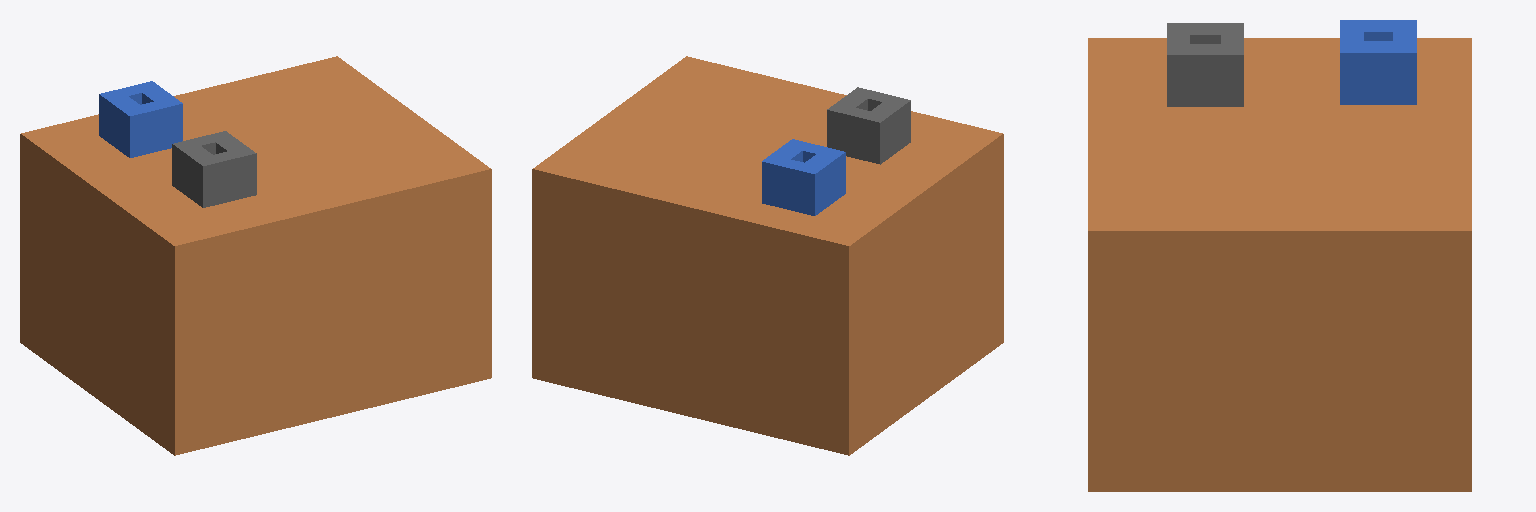
URDF robot description (peg_in_hole_fixtured_scene_0037_peg0001_tol02):
<?xml version="1.0"?>
<robot name="peg_in_hole_fixtured_scene_0037_peg0001_tol02">
  <material name="wood"><color rgba="0.82 0.56 0.35 1.0"/></material>
  <material name="start_fix"><color rgba="0.30 0.50 0.85 1.0"/></material>
  <material name="goal_fix"><color rgba="0.4706 0.4706 0.4706 1.0"/></material>
  <link name="box">
    <visual>
      <origin xyz="0.000000 0.000000 0.000000" rpy="0 0 0"/>
      <geometry><box size="0.475000 0.400000 0.300000"/></geometry>
      <material name="wood"/>
    </visual>
    <collision>
      <origin xyz="0.000000 0.000000 0.000000" rpy="0 0 0"/>
      <geometry><box size="0.475000 0.400000 0.300000"/></geometry>
    </collision>
    <visual>
      <origin xyz="-0.112836 0.102692 0.155000" rpy="0 0 0"/>
      <geometry><box size="0.080000 0.080000 0.010000"/></geometry>
      <material name="start_fix"/>
    </visual>
    <collision>
      <origin xyz="-0.112836 0.102692 0.155000" rpy="0 0 0"/>
      <geometry><box size="0.080000 0.080000 0.010000"/></geometry>
    </collision>
    <visual>
      <origin xyz="-0.087586 0.102692 0.185000" rpy="0 0 0"/>
      <geometry><box size="0.029500 0.080000 0.050000"/></geometry>
      <material name="start_fix"/>
    </visual>
    <collision>
      <origin xyz="-0.087586 0.102692 0.185000" rpy="0 0 0"/>
      <geometry><box size="0.029500 0.080000 0.050000"/></geometry>
    </collision>
    <visual>
      <origin xyz="-0.138086 0.102692 0.185000" rpy="0 0 0"/>
      <geometry><box size="0.029500 0.080000 0.050000"/></geometry>
      <material name="start_fix"/>
    </visual>
    <collision>
      <origin xyz="-0.138086 0.102692 0.185000" rpy="0 0 0"/>
      <geometry><box size="0.029500 0.080000 0.050000"/></geometry>
    </collision>
    <visual>
      <origin xyz="-0.112836 0.130442 0.185000" rpy="0 0 0"/>
      <geometry><box size="0.021000 0.024500 0.050000"/></geometry>
      <material name="start_fix"/>
    </visual>
    <collision>
      <origin xyz="-0.112836 0.130442 0.185000" rpy="0 0 0"/>
      <geometry><box size="0.021000 0.024500 0.050000"/></geometry>
    </collision>
    <visual>
      <origin xyz="-0.112836 0.074942 0.185000" rpy="0 0 0"/>
      <geometry><box size="0.021000 0.024500 0.050000"/></geometry>
      <material name="start_fix"/>
    </visual>
    <collision>
      <origin xyz="-0.112836 0.074942 0.185000" rpy="0 0 0"/>
      <geometry><box size="0.021000 0.024500 0.050000"/></geometry>
    </collision>
    <visual>
      <origin xyz="-0.106984 -0.077379 0.155000" rpy="0 0 0"/>
      <geometry><box size="0.080000 0.080000 0.010000"/></geometry>
      <material name="goal_fix"/>
    </visual>
    <collision>
      <origin xyz="-0.106984 -0.077379 0.155000" rpy="0 0 0"/>
      <geometry><box size="0.080000 0.080000 0.010000"/></geometry>
    </collision>
    <visual>
      <origin xyz="-0.081422 -0.077379 0.185000" rpy="0 0 0"/>
      <geometry><box size="0.028876 0.080000 0.050000"/></geometry>
      <material name="goal_fix"/>
    </visual>
    <collision>
      <origin xyz="-0.081422 -0.077379 0.185000" rpy="0 0 0"/>
      <geometry><box size="0.028876 0.080000 0.050000"/></geometry>
    </collision>
    <visual>
      <origin xyz="-0.132546 -0.077379 0.185000" rpy="0 0 0"/>
      <geometry><box size="0.028876 0.080000 0.050000"/></geometry>
      <material name="goal_fix"/>
    </visual>
    <collision>
      <origin xyz="-0.132546 -0.077379 0.185000" rpy="0 0 0"/>
      <geometry><box size="0.028876 0.080000 0.050000"/></geometry>
    </collision>
    <visual>
      <origin xyz="-0.106984 -0.049317 0.185000" rpy="0 0 0"/>
      <geometry><box size="0.022248 0.023876 0.050000"/></geometry>
      <material name="goal_fix"/>
    </visual>
    <collision>
      <origin xyz="-0.106984 -0.049317 0.185000" rpy="0 0 0"/>
      <geometry><box size="0.022248 0.023876 0.050000"/></geometry>
    </collision>
    <visual>
      <origin xyz="-0.106984 -0.105441 0.185000" rpy="0 0 0"/>
      <geometry><box size="0.022248 0.023876 0.050000"/></geometry>
      <material name="goal_fix"/>
    </visual>
    <collision>
      <origin xyz="-0.106984 -0.105441 0.185000" rpy="0 0 0"/>
      <geometry><box size="0.022248 0.023876 0.050000"/></geometry>
    </collision>
    <inertial>
      <mass value="500"/>
      <friction value="1.0"/>
      <inertia ixx="1000.0" ixy="0.0" ixz="0.0" iyy="1000.0" iyz="0.0" izz="1000.0"/>
    </inertial>
  </link>
</robot>

--- Facts derived from the render (not from the file) ---
Views: 3 orthographic renders of the robot side by side, from view 1: azimuth 30°, elevation 25°; view 2: azimuth 150°, elevation 25°; view 3: azimuth 270°, elevation 25°.
Robot: peg_in_hole_fixtured_scene_0037_peg0001_tol02 — 1 links, 0 joints (none); root link box; default pose: all joints at 0.
Links seen in each view (by area): view 1: box; view 2: box; view 3: box.
Link boxes in pixels (x1,y1,x2,y2): box: [20, 56, 491, 455]; box: [532, 56, 1003, 455]; box: [1088, 20, 1471, 491].
Size in the robot's own frame: 0.475 by 0.4 by 0.36 metres.
Geometry: primitives only (box / cylinder / sphere), no mesh files.
